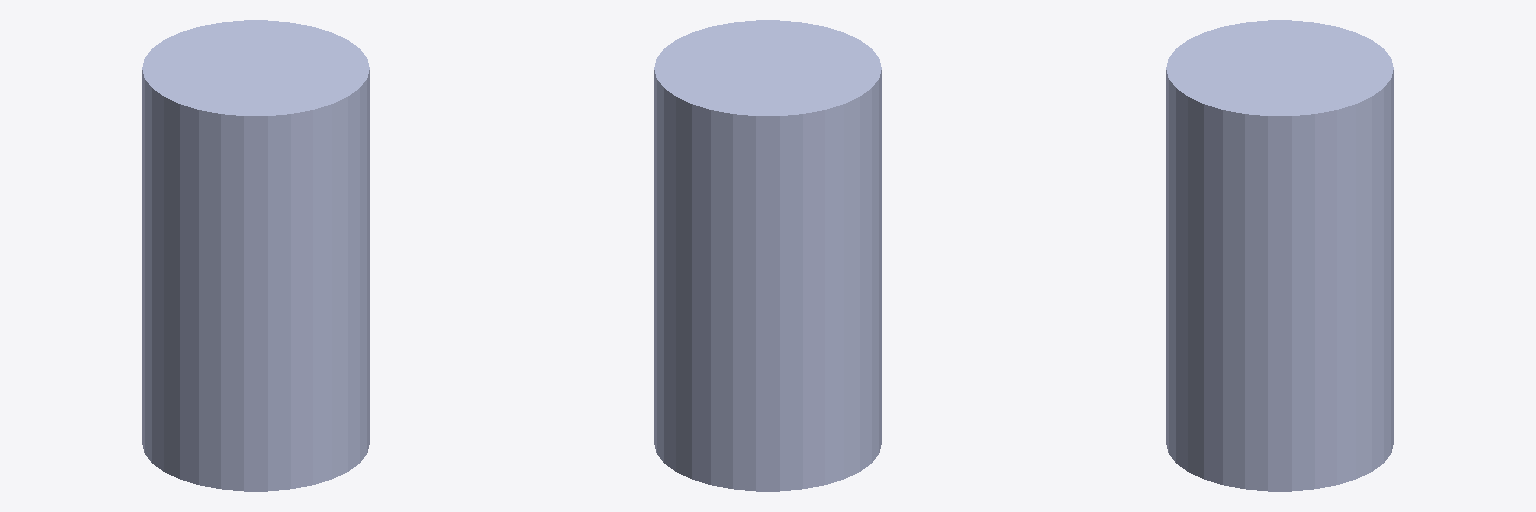
robot.urdf — pp:
<?xml version="1.0" encoding="utf-8"?>
<!-- This URDF was automatically created by SolidWorks to URDF Exporter! Originally created by [author] ([email redacted]) 
     Commit Version: 1.6.0-4-g7f85cfe  Build Version: 1.6.7995.38578
     For more information, please see http://wiki.ros.org/sw_urdf_exporter -->
<robot
  name="pp">
  <link
    name="base_link">
    <inertial>
      <origin
        xyz="0.0595118151825912 0.0526247402781009 0.0610676953183453"
        rpy="0 0 0" />
      <mass
        value="0.237582944427728" />
      <inertia
        ixx="0.000242903812453974"
        ixy="-6.31292010616127E-37"
        ixz="-2.03915764624954E-53"
        iyy="8.98360508617346E-05"
        iyz="-7.3875514005223E-37"
        izz="0.000242903812453974" />
    </inertial>
    <visual>
      <origin
        xyz="0 0 0"
        rpy="0 0 0" />
      <geometry>
        <mesh
          filename="package://pp/meshes/base_link.STL" />
      </geometry>
      <material
        name="">
        <color
          rgba="0.792156862745098 0.819607843137255 0.933333333333333 1" />
      </material>
    </visual>
    <collision>
      <origin
        xyz="0 0 0"
        rpy="0 0 0" />
      <geometry>
        <mesh
          filename="package://pp/meshes/base_link.STL" />
      </geometry>
    </collision>
  </link>
</robot>

--- What the picture shows (computed from the rendered views, not written in the file) ---
The picture shows the robot from 3 angles, left to right: view 1: azimuth 30°, elevation 25°; view 2: azimuth 150°, elevation 25°; view 3: azimuth 270°, elevation 25°; orthographic projection.
Model pp with 1 links and 0 joints (none), rooted at base_link, posed all joints at 0.
Links seen in each view (by area): view 1: base_link; view 2: base_link; view 3: base_link.
Boxes of the visible links, left/top/right/bottom form: base_link: left=142, top=20, right=369, bottom=491; base_link: left=654, top=20, right=881, bottom=491; base_link: left=1166, top=20, right=1393, bottom=491.
Bounding box of the posed robot: 0.0547 × 0.055 × 0.1 m (x, y, z).
1 mesh visuals loaded from 1 distinct referenced files (1 binary STL).
